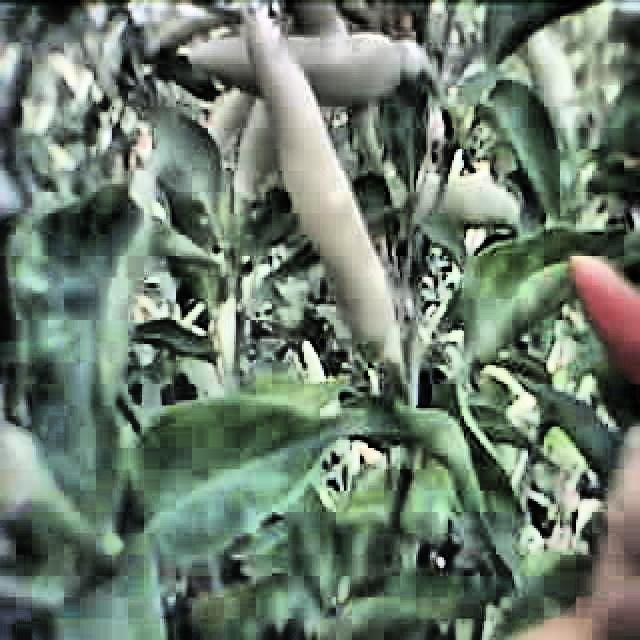Cabai: (561, 248, 640, 390)
